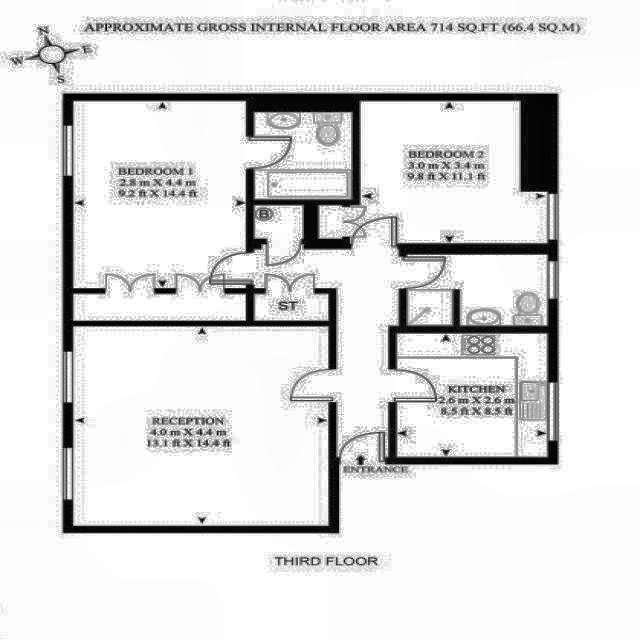room: (75, 326, 328, 525), (73, 100, 247, 321), (254, 205, 398, 456), (319, 99, 547, 243), (397, 333, 547, 457), (407, 255, 547, 325), (255, 114, 351, 199)
